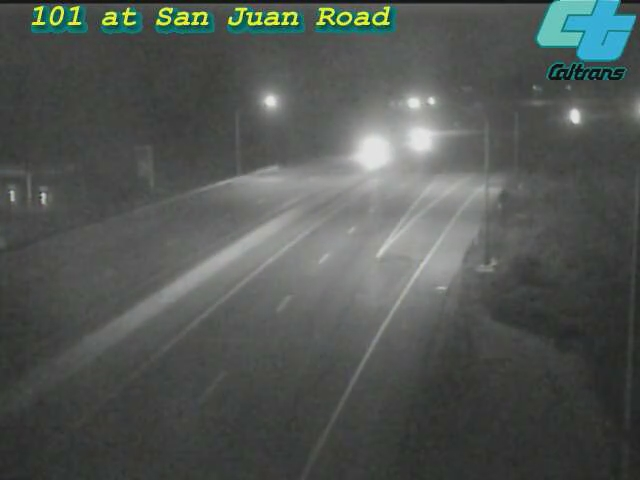vehicle: (338, 126, 388, 176), (390, 114, 440, 164), (550, 90, 600, 140)
